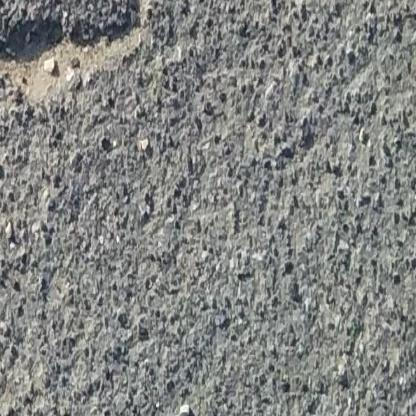Cracks: (0, 0, 172, 110)
